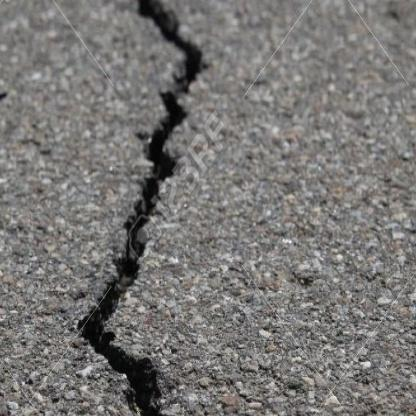Cracks: (76, 0, 208, 416)
